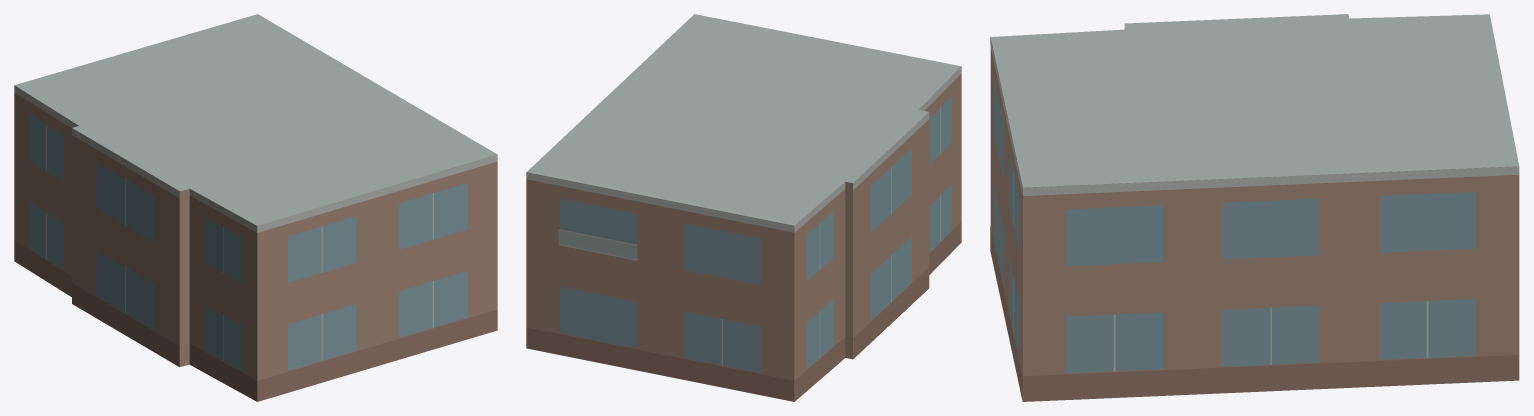
Rendered from survey-upis-32711386.glb.
3 renders of one model, left to right at view 1: azimuth 30°, elevation 25°; view 2: azimuth 150°, elevation 25°; view 3: azimuth 270°, elevation 25°, orthographic. The views are drawn at different scales.
Visible parts, largest first — view 1: survey-upis-32711386.tmp; view 2: survey-upis-32711386.tmp; view 3: survey-upis-32711386.tmp.
Boxes of the visible parts, left/top/right/bottom form: survey-upis-32711386.tmp: left=14, top=14, right=497, bottom=401; survey-upis-32711386.tmp: left=526, top=14, right=961, bottom=401; survey-upis-32711386.tmp: left=990, top=14, right=1519, bottom=401.
Bounding box in the file's own units: 10.61 × 6.1 × 13.65.
